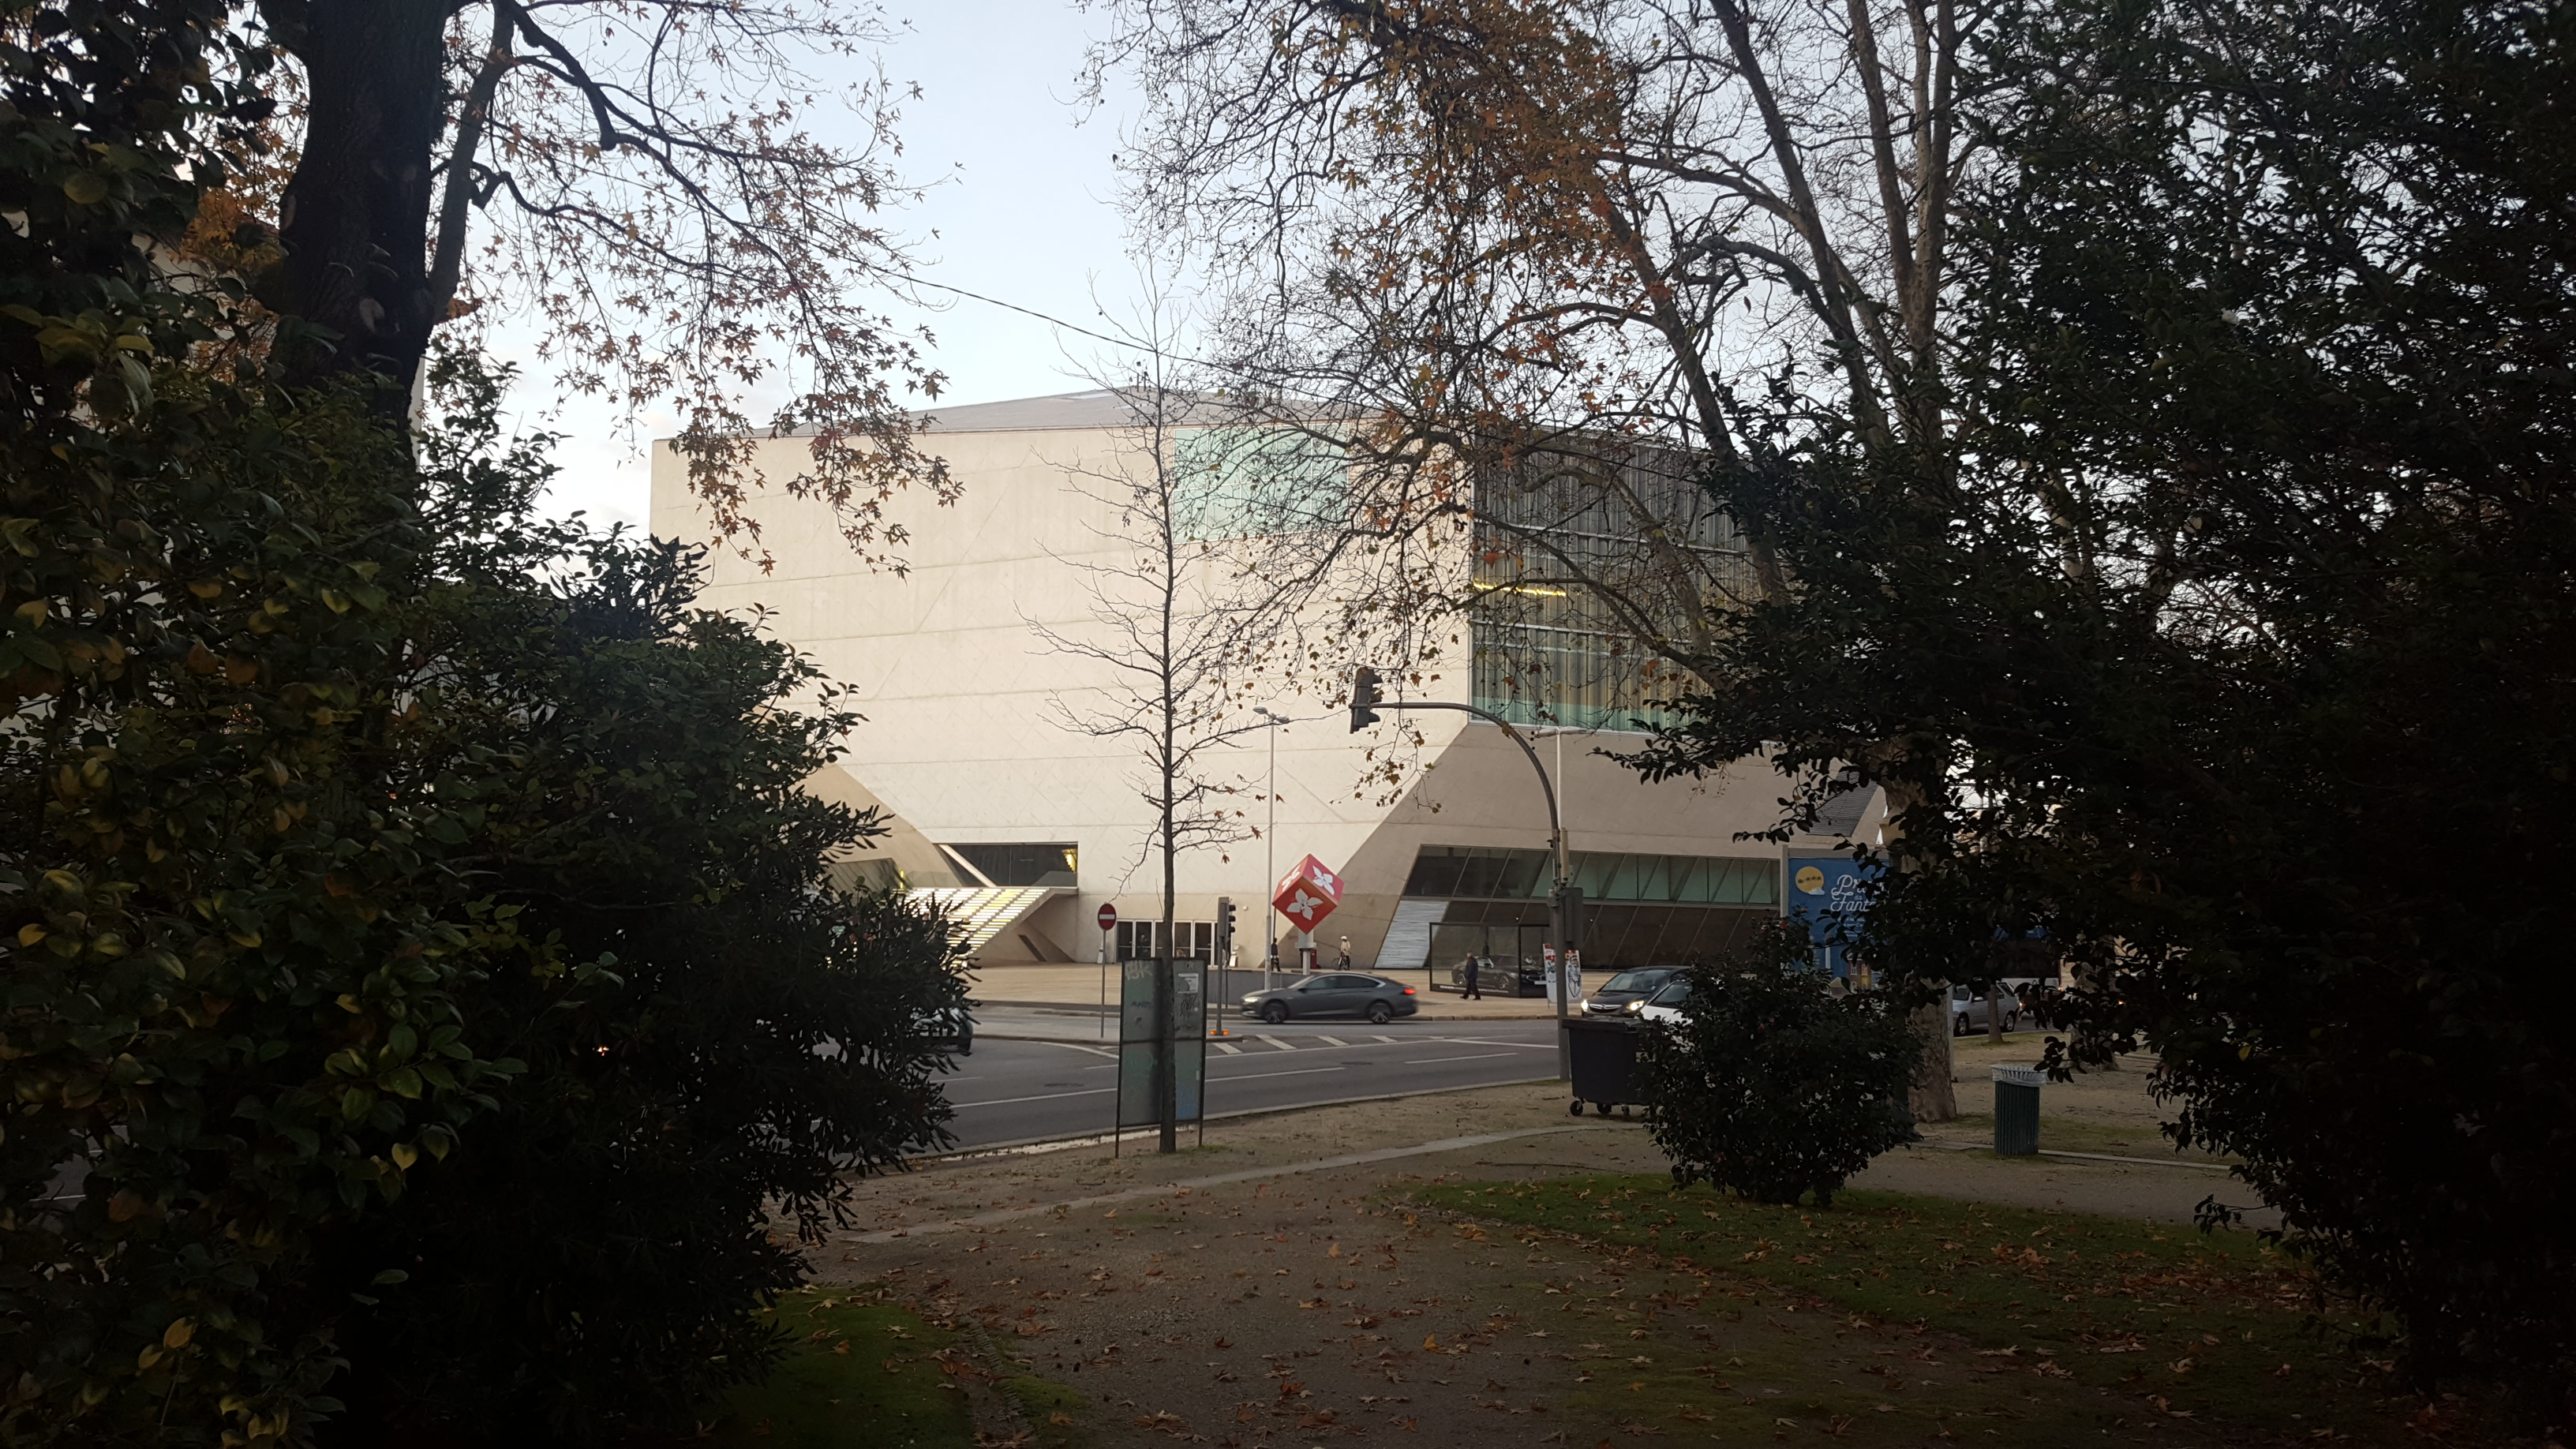musica: (651, 379, 1231, 607)
